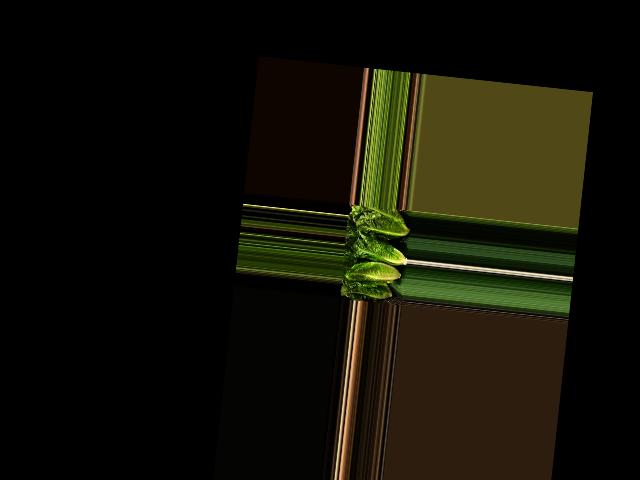lettuce: (339, 279, 391, 300)
